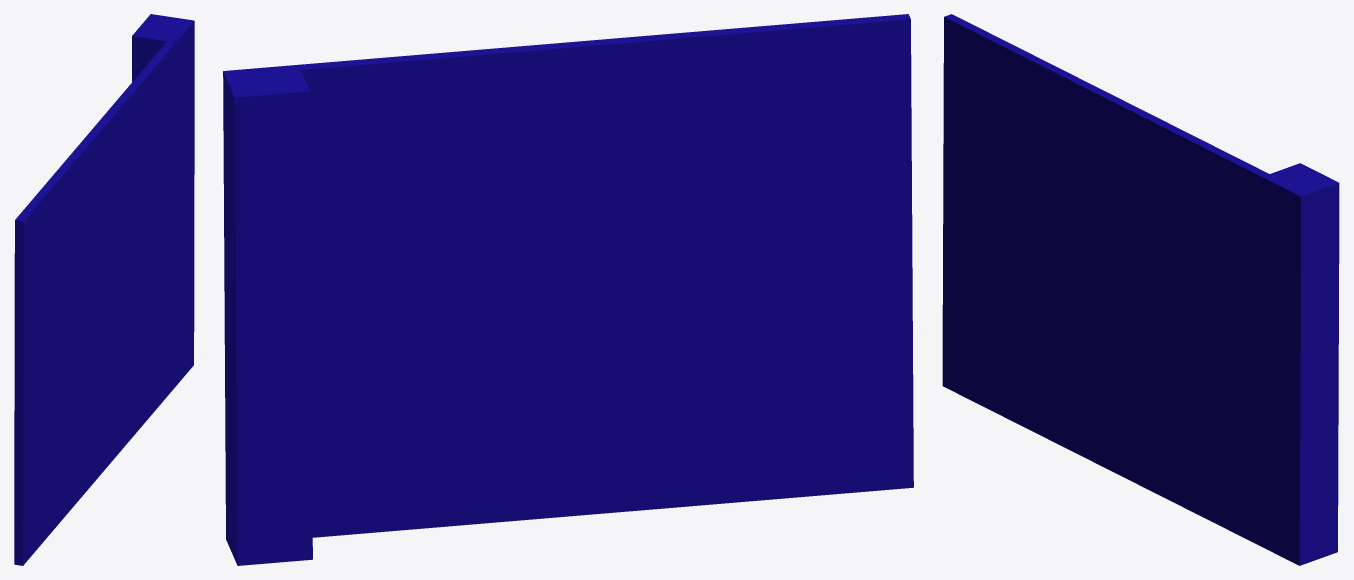
File: CaseDoor.fbx
The picture shows the model from 3 angles, left to right: view 1: azimuth 30°, elevation 25°; view 2: azimuth 150°, elevation 25°; view 3: azimuth 270°, elevation 25°; orthographic projection. The views are drawn at different scales.
Parts seen in each view (by area): view 1: CaseDoor; view 2: CaseDoor; view 3: CaseDoor.
Part boxes in pixels (x1,y1,x2,y2): CaseDoor: (14,14,194,565); CaseDoor: (223,14,913,565); CaseDoor: (942,14,1339,565).
Bounding box in the file's own units: 16.52 × 15.91 × 15.35.
